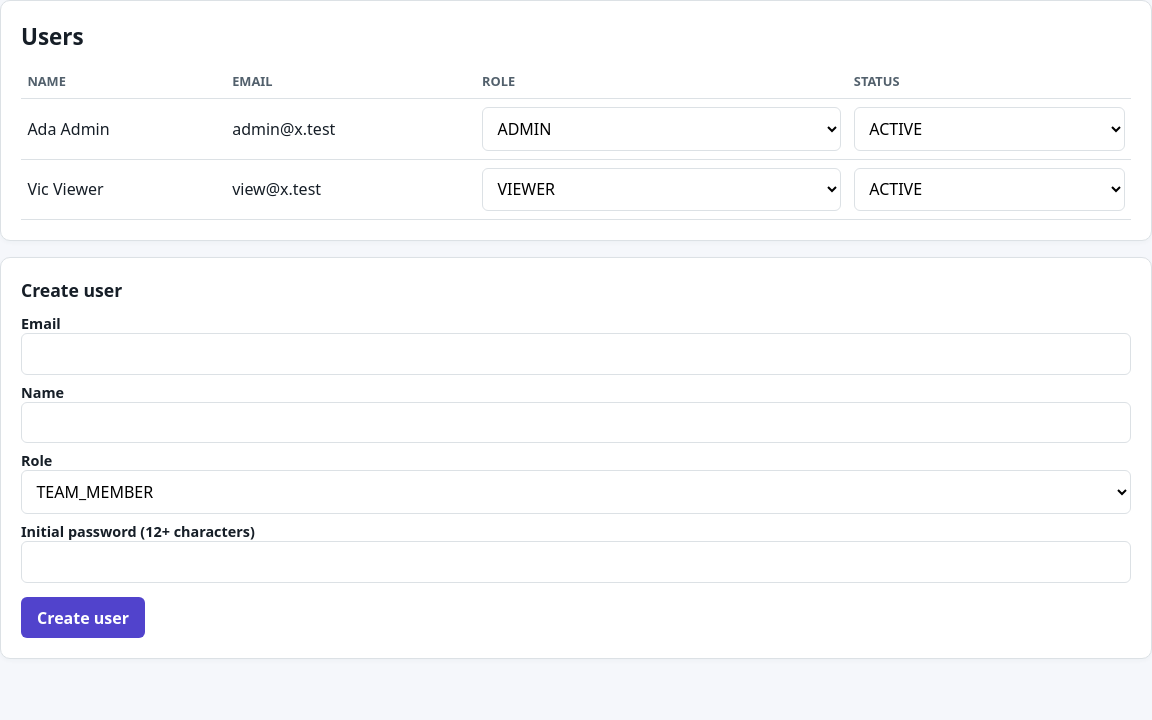
Scenario: UsersAdminPage › shows the server reason when a role change is refused, and re-syncs the list
expect the text "view@x.test" is shown: met, box [226,159,476,220]
Select "ORGANIZER" in the dropdown named "Role for view@x.test" at (662, 189), box [482,168,841,211]
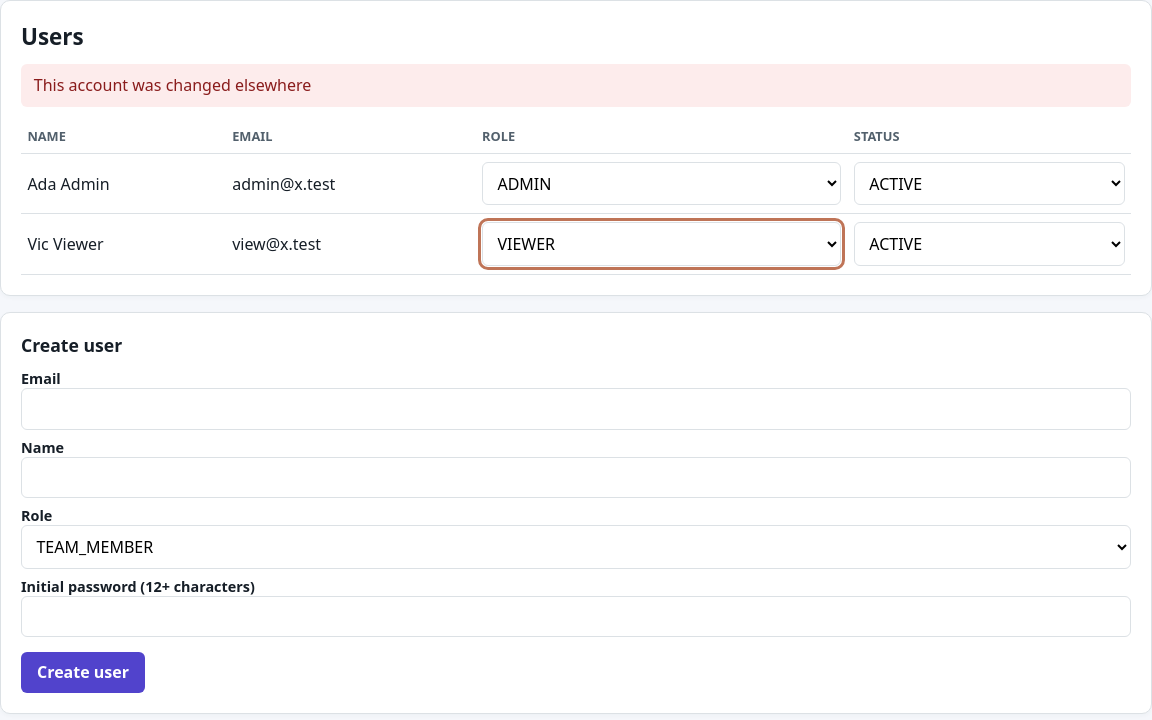
expect the text "This account was changed elsewhere" is shown: met, box [21,64,1131,107]
